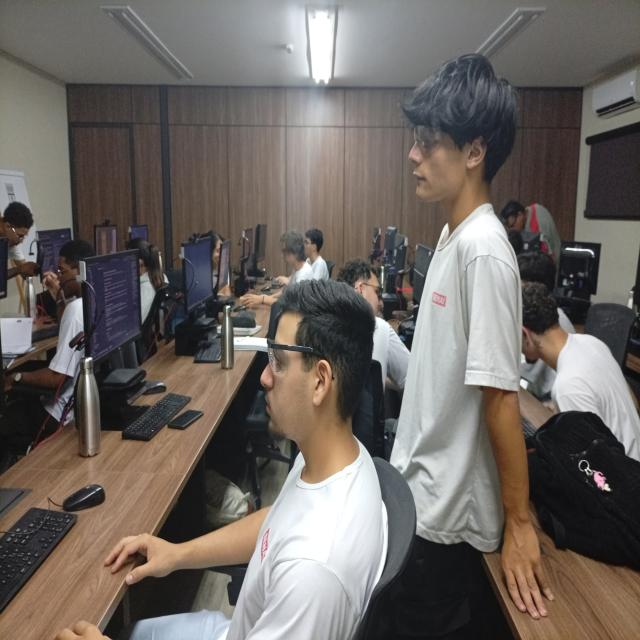oculos-epi: (266, 338, 325, 376), (410, 124, 458, 153)
sem_oculos: (344, 277, 393, 301), (52, 261, 86, 283), (7, 215, 28, 246), (279, 243, 296, 258), (300, 236, 318, 250), (505, 216, 520, 228)
